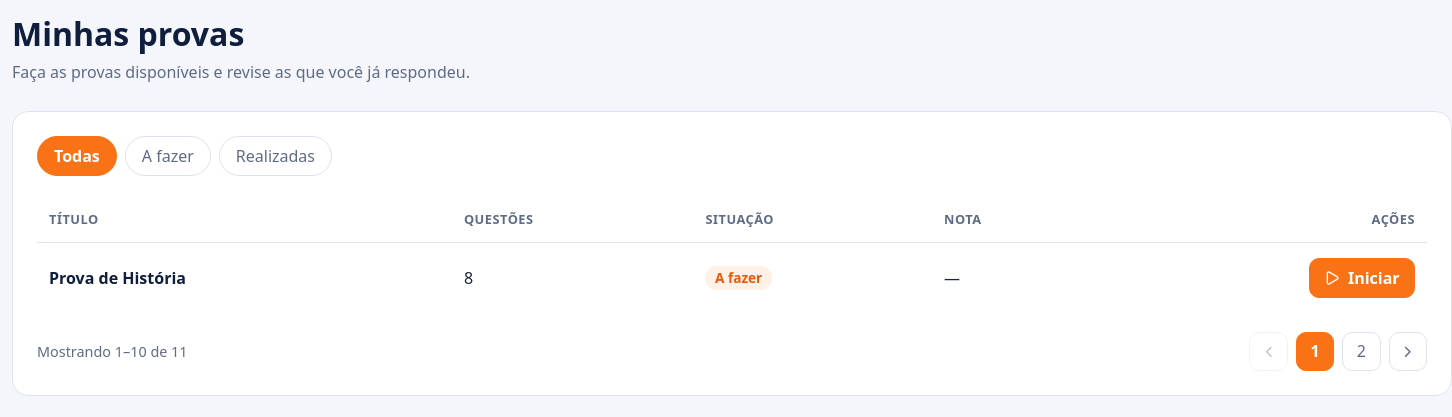
Test: StudentExamListView › loads another page from the API
Expected: the text "Mostrando 1–10 de 11" is shown, [37, 342, 188, 361]
Click the button named "Próxima página".
click(1408, 351)  # box [1389, 332, 1427, 371]
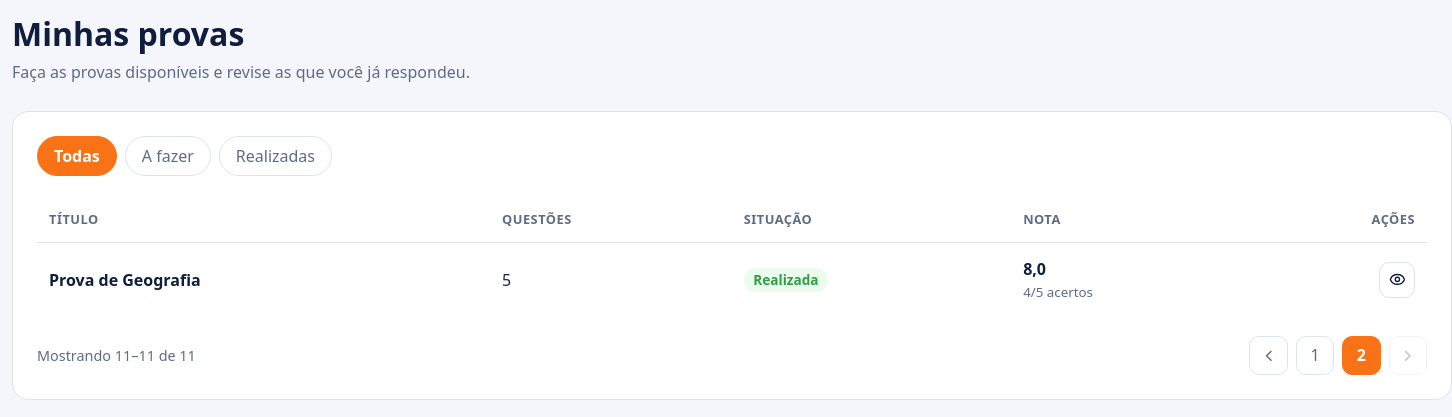
Expected: the button "2" is shown, [1342, 336, 1381, 375]
Result: the cell "Prova de Geografia" is shown at [37, 243, 490, 316]
